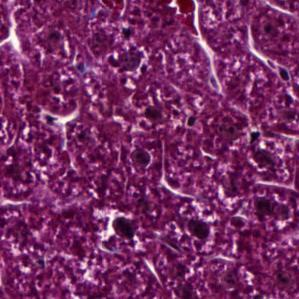inflammation: (106, 207, 140, 246), (182, 213, 215, 246), (246, 143, 279, 172)
